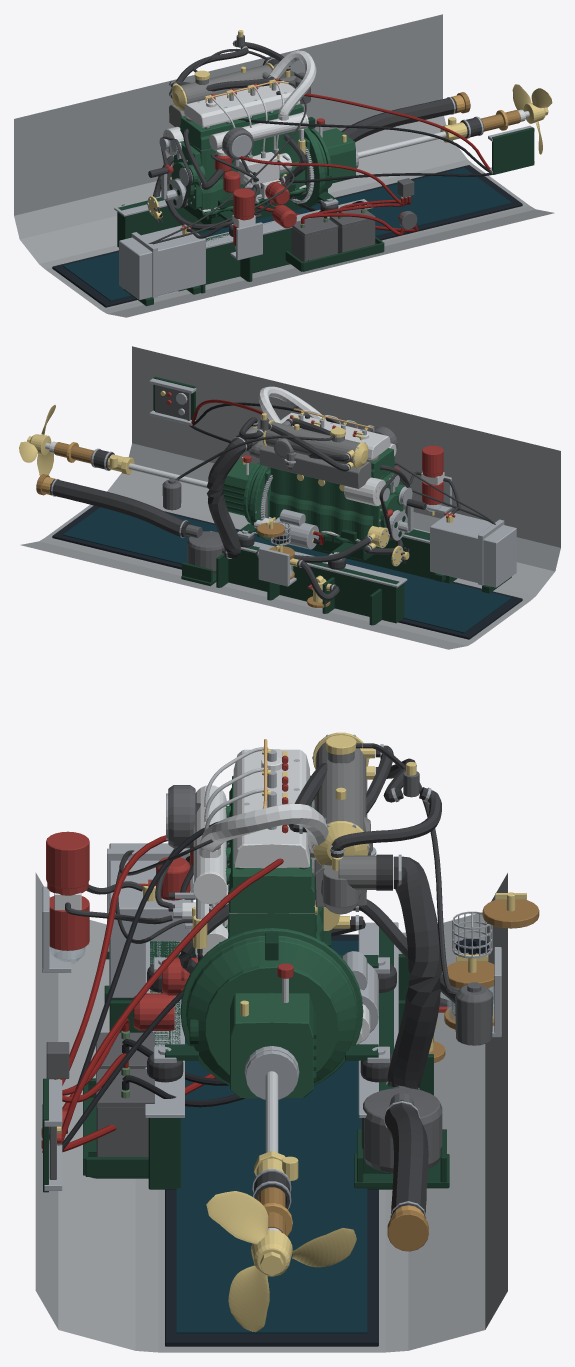
Rendered from motor.a4a011cd.glb.
The picture shows the model from 3 angles, top to bottom: view 1: azimuth 30°, elevation 25°; view 2: azimuth 150°, elevation 25°; view 3: azimuth 270°, elevation 25°; orthographic projection. The views are drawn at different scales.
Visible parts, largest first — view 1: Bilge, Structure, Fuel tank, Wiring loom, Engine block, Rocker cover, Intake manifold, Raw water hose, Exhaust hose, Engine-start battery, Gearbox / reverse gear, Heat exchanger (+20 smaller); view 2: Bilge, Structure, Fuel tank, Engine block, Exhaust hose, Raw water hose, Exhaust manifold, Heat exchanger, Gearbox / reverse gear, Waterlock / exhaust silencer, Starter motor, Propeller (+21 smaller); view 3: Bilge, Structure, Gearbox / reverse gear, Exhaust hose, Bell housing, Wiring loom, Propeller, Intake manifold, Raw water hose, Rocker cover, Fuel tank, Heat exchanger (+28 smaller).
Boxes of the visible parts, bbox=[...] form: Bilge: bbox=[14, 14, 554, 317]; Structure: bbox=[114, 162, 384, 306]; Fuel tank: bbox=[119, 224, 205, 300]; Wiring loom: bbox=[238, 93, 492, 215]; Engine block: bbox=[189, 129, 309, 215]; Rocker cover: bbox=[184, 80, 300, 127]; Intake manifold: bbox=[209, 50, 316, 150]; Raw water hose: bbox=[153, 40, 306, 230]; Exhaust hose: bbox=[263, 57, 457, 142]; Engine-start battery: bbox=[291, 217, 338, 261]; Gearbox / reverse gear: bbox=[310, 118, 355, 191]; Heat exchanger: bbox=[171, 62, 274, 110]; Bilge: bbox=[20, 346, 560, 649]; Structure: bbox=[181, 476, 511, 625]; Fuel tank: bbox=[430, 512, 516, 587]; Engine block: bbox=[265, 467, 394, 546]; Exhaust hose: bbox=[49, 437, 247, 558]; Raw water hose: bbox=[239, 417, 403, 600]; Exhaust manifold: bbox=[259, 444, 371, 488]; Heat exchanger: bbox=[262, 420, 368, 468]; Gearbox / reverse gear: bbox=[223, 455, 261, 524]; Waterlock / exhaust silencer: bbox=[185, 524, 224, 573]; Starter motor: bbox=[254, 509, 318, 549]; Propeller: bbox=[19, 405, 55, 475]; Bilge: bbox=[35, 872, 507, 1352]; Structure: bbox=[42, 848, 501, 1189]; Gearbox / reverse gear: bbox=[205, 963, 339, 1098]; Exhaust hose: bbox=[383, 854, 441, 1218]; Bell housing: bbox=[180, 928, 363, 1085]; Wiring loom: bbox=[54, 821, 283, 1150]; Propeller: bbox=[206, 1191, 356, 1332]; Intake manifold: bbox=[193, 785, 328, 904]; Raw water hose: bbox=[178, 744, 457, 1006]; Rocker cover: bbox=[233, 749, 309, 868]; Fuel tank: bbox=[109, 843, 190, 997]; Heat exchanger: bbox=[308, 732, 374, 865].
Bounding box in the file's own units: 2.4 × 0.8927 × 1.11.
